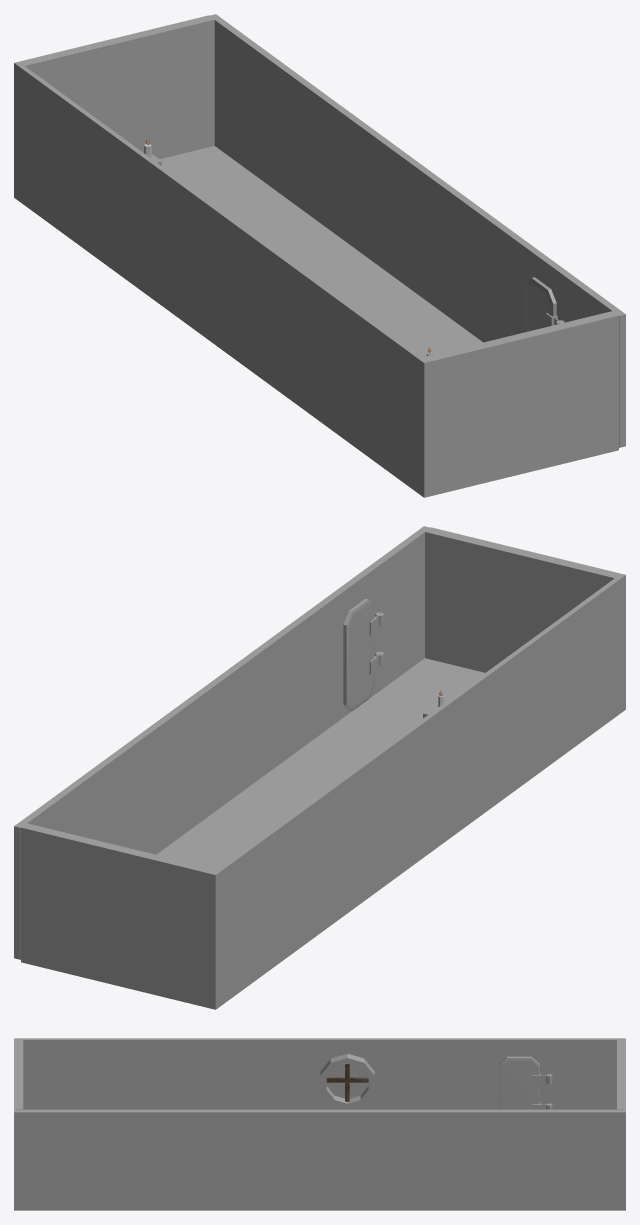
File: zoulang.fbx
3 renders of one model, top to bottom at view 1: azimuth 30°, elevation 25°; view 2: azimuth 150°, elevation 25°; view 3: azimuth 270°, elevation 25°, orthographic. The views are drawn at different scales.
Parts seen in each view (by area): view 1: pCube1, pCube4, pasted__pCube3; view 2: pCube1, pCube4, pasted__pCube3; view 3: pCube4, pCube1, pCube3, 立方体.073.
Boxes of the visible parts, x1=… form: pCube1: x1=14, y1=15, x2=618, y2=497; pCube4: x1=210, y1=14, x2=625, y2=447; pasted__pCube3: x1=526, y1=277, x2=564, y2=331; pCube1: x1=21, y1=527, x2=625, y2=1009; pCube4: x1=14, y1=526, x2=429, y2=959; pasted__pCube3: x1=343, y1=598, x2=383, y2=711; pCube4: x1=14, y1=1109, x2=625, y2=1210; pCube1: x1=14, y1=1038, x2=625, y2=1109; pCube3: x1=499, y1=1056, x2=552, y2=1109; 立方体.073: x1=320, y1=1053, x2=374, y2=1109.
Size of the model in its own units: 11.9 by 7.59 by 41.89.
